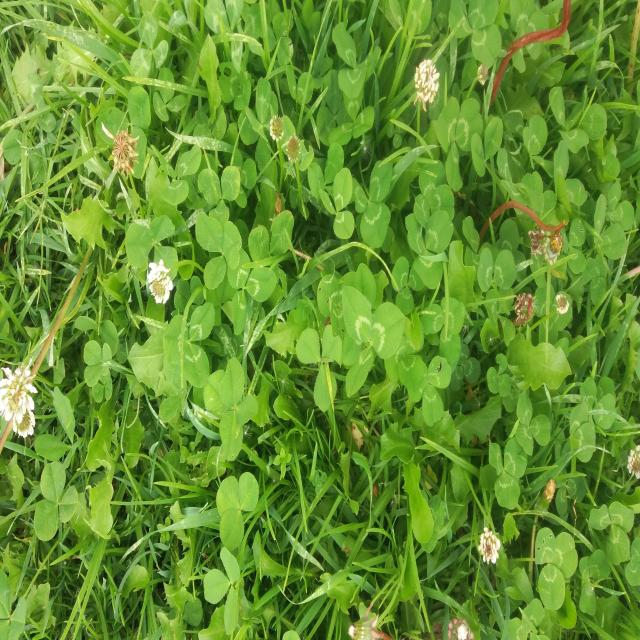Four Leaf Clover: (203, 357, 259, 460)
